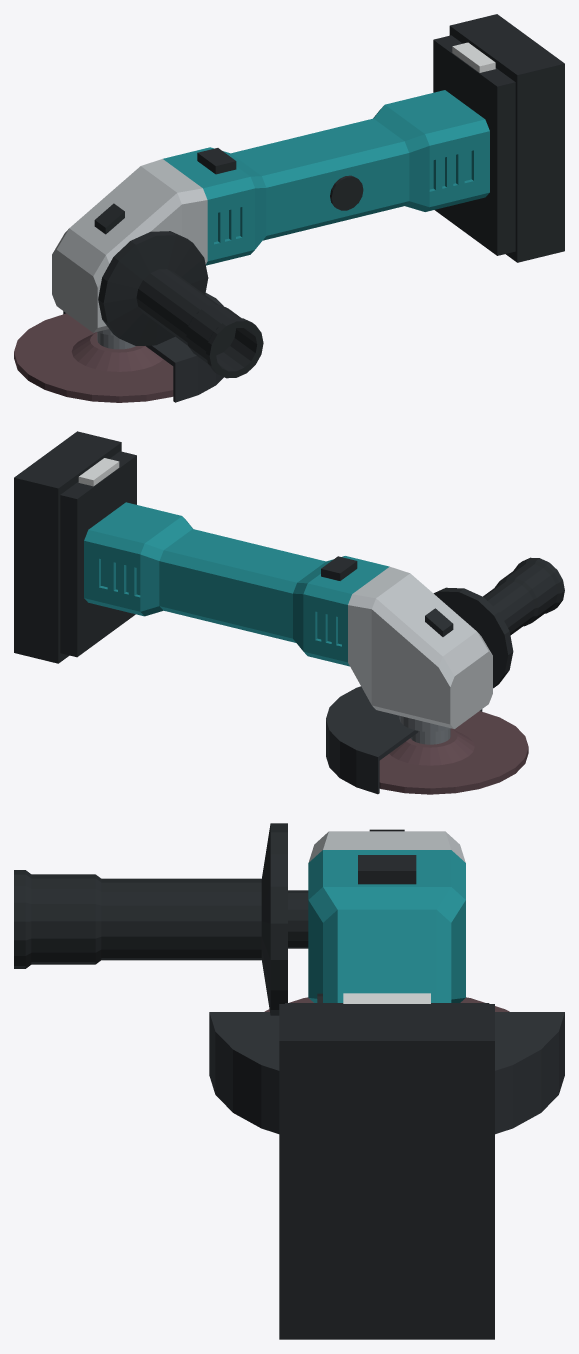
3 renders of one model, top to bottom at view 1: azimuth 30°, elevation 25°; view 2: azimuth 150°, elevation 25°; view 3: azimuth 270°, elevation 25°, orthographic. The views are drawn at different scales.
Parts seen in each view (by area): view 1: 06_Motor_barrel_with_front_and_rear_vent_recesses, 12_Hollow_end_auxiliary_side_handle, 08_3Ah_style_battery_pack, 05_Cast_right_angle_gear_head, 01_Depressed_center_115mm_grinding_wheel, 07_Battery_mount_tower, 04_Partial_wheel_guard_with_integral_top_attachment, 13_Round_brush_service_cover, 09_Battery_release_latch, 10_Slide_switch, 11_Spindle_lock_button; view 2: 06_Motor_barrel_with_front_and_rear_vent_recesses, 05_Cast_right_angle_gear_head, 08_3Ah_style_battery_pack, 01_Depressed_center_115mm_grinding_wheel, 07_Battery_mount_tower, 12_Hollow_end_auxiliary_side_handle, 04_Partial_wheel_guard_with_integral_top_attachment, 09_Battery_release_latch, 10_Slide_switch, 11_Spindle_lock_button, 02_Wheel_flange_and_spindle; view 3: 08_3Ah_style_battery_pack, 12_Hollow_end_auxiliary_side_handle, 06_Motor_barrel_with_front_and_rear_vent_recesses, 04_Partial_wheel_guard_with_integral_top_attachment, 05_Cast_right_angle_gear_head, 10_Slide_switch, 09_Battery_release_latch.
Boxes of the visible parts, <box> form: 06_Motor_barrel_with_front_and_rear_vent_recesses: <box>163,90,489,265</box>; 12_Hollow_end_auxiliary_side_handle: <box>98,231,263,378</box>; 08_3Ah_style_battery_pack: <box>449,14,564,262</box>; 05_Cast_right_angle_gear_head: <box>52,159,207,332</box>; 01_Depressed_center_115mm_grinding_wheel: <box>14,313,173,402</box>; 07_Battery_mount_tower: <box>433,35,515,255</box>; 04_Partial_wheel_guard_with_integral_top_attachment: <box>63,293,223,402</box>; 13_Round_brush_service_cover: <box>330,175,363,210</box>; 09_Battery_release_latch: <box>452,42,495,72</box>; 10_Slide_switch: <box>197,148,236,174</box>; 11_Spindle_lock_button: <box>94,203,124,234</box>; 06_Motor_barrel_with_front_and_rear_vent_recesses: <box>84,502,389,666</box>; 05_Cast_right_angle_gear_head: <box>348,567,492,728</box>; 08_3Ah_style_battery_pack: <box>14,431,121,663</box>; 01_Depressed_center_115mm_grinding_wheel: <box>379,711,528,794</box>; 07_Battery_mount_tower: <box>60,451,136,657</box>; 12_Hollow_end_auxiliary_side_handle: <box>433,557,564,688</box>; 04_Partial_wheel_guard_with_integral_top_attachment: <box>326,686,482,794</box>; 09_Battery_release_latch: <box>78,458,119,486</box>; 10_Slide_switch: <box>321,556,357,580</box>; 11_Spindle_lock_button: <box>425,608,453,636</box>; 02_Wheel_flange_and_spindle: <box>410,728,450,744</box>; 08_3Ah_style_battery_pack: <box>279,1004,494,1339</box>; 12_Hollow_end_auxiliary_side_handle: <box>14,823,308,1015</box>; 06_Motor_barrel_with_front_and_rear_vent_recesses: <box>308,850,465,1002</box>; 04_Partial_wheel_guard_with_integral_top_attachment: <box>209,1012,564,1134</box>; 05_Cast_right_angle_gear_head: <box>308,831,465,862</box>; 10_Slide_switch: <box>358,855,416,884</box>; 09_Battery_release_latch: <box>343,993,430,1003</box>.
Bounding box in the file's own units: 0.317 × 0.134 × 0.189.
